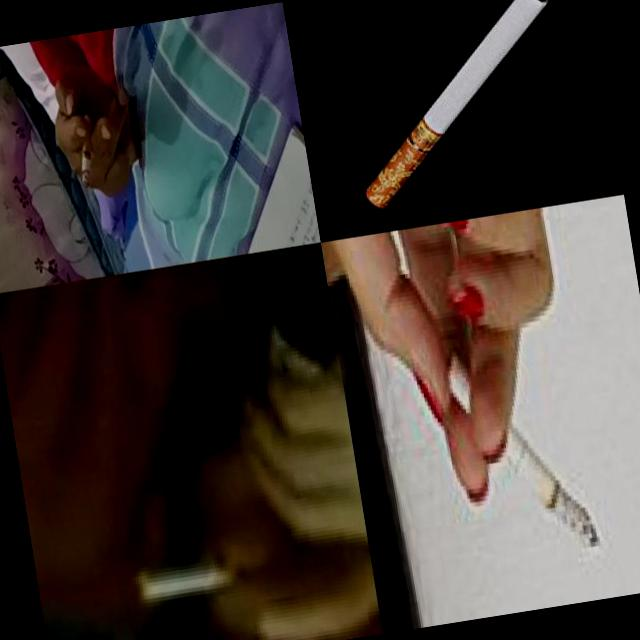smoke: (335, 0, 578, 210), (442, 332, 602, 572), (137, 558, 240, 612), (72, 113, 102, 189)
